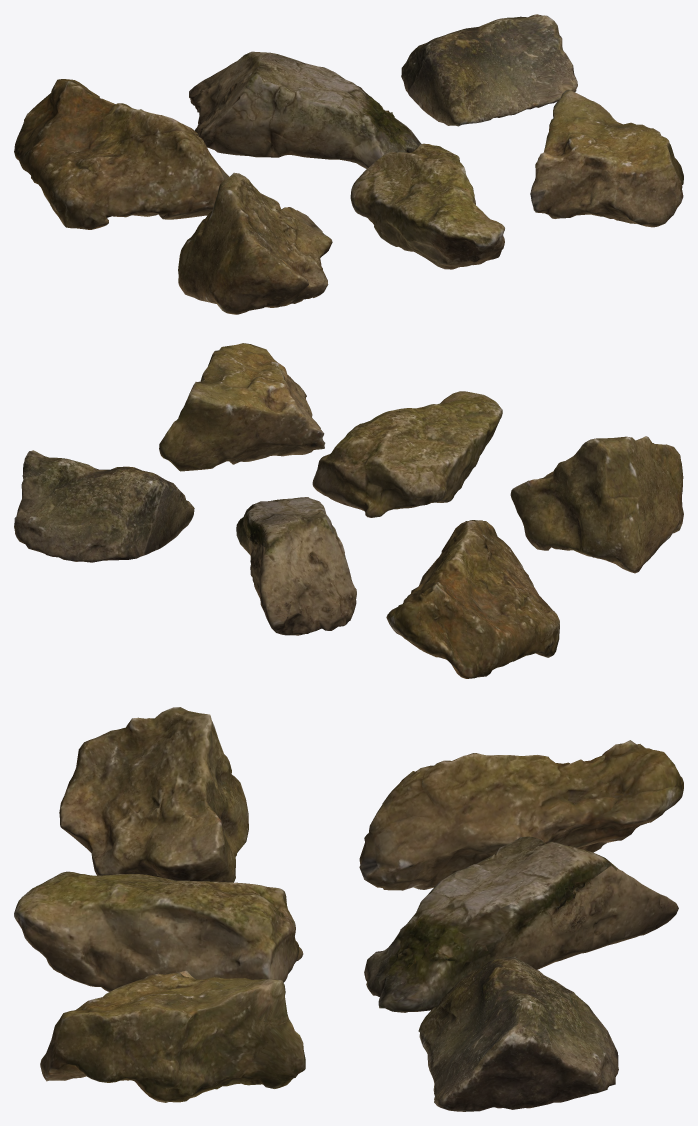
File: rock_moss_set_01.glb
3 views of the same model, one above another, from view 1: azimuth 30°, elevation 25°; view 2: azimuth 150°, elevation 25°; view 3: azimuth 270°, elevation 25° (orthographic). The views are drawn at different scales.
Parts seen in each view (by area): view 1: rock_moss_set_01_rock01, rock_moss_set_01_rock02, rock_moss_set_01_rock06, rock_moss_set_01_rock04, rock_moss_set_01_rock03, rock_moss_set_01_rock05; view 2: rock_moss_set_01_rock04, rock_moss_set_01_rock01, rock_moss_set_01_rock05, rock_moss_set_01_rock03, rock_moss_set_01_rock06, rock_moss_set_01_rock02; view 3: rock_moss_set_01_rock01, rock_moss_set_01_rock02, rock_moss_set_01_rock05, rock_moss_set_01_rock06, rock_moss_set_01_rock04, rock_moss_set_01_rock03.
Part boxes in pixels (left/top/right/bottom): rock_moss_set_01_rock01: left=14, top=79, right=229, bottom=229; rock_moss_set_01_rock02: left=189, top=51, right=421, bottom=168; rock_moss_set_01_rock06: left=530, top=89, right=683, bottom=227; rock_moss_set_01_rock04: left=178, top=172, right=332, bottom=314; rock_moss_set_01_rock03: left=401, top=14, right=577, bottom=126; rock_moss_set_01_rock05: left=350, top=143, right=504, bottom=269; rock_moss_set_01_rock04: left=510, top=436, right=683, bottom=573; rock_moss_set_01_rock01: left=386, top=520, right=559, bottom=678; rock_moss_set_01_rock05: left=312, top=391, right=502, bottom=517; rock_moss_set_01_rock03: left=14, top=450, right=194, bottom=562; rock_moss_set_01_rock06: left=159, top=343, right=325, bottom=471; rock_moss_set_01_rock02: left=236, top=497, right=356, bottom=635; rock_moss_set_01_rock01: left=359, top=740, right=683, bottom=890; rock_moss_set_01_rock02: left=364, top=836, right=678, bottom=1012; rock_moss_set_01_rock05: left=14, top=871, right=303, bottom=991; rock_moss_set_01_rock06: left=40, top=970, right=305, bottom=1102; rock_moss_set_01_rock04: left=59, top=707, right=248, bottom=882; rock_moss_set_01_rock03: left=418, top=956, right=618, bottom=1111.
Size of the model in its own units: 8 by 1.76 by 6.94.
Materials: 1 (1 with a texture image).
